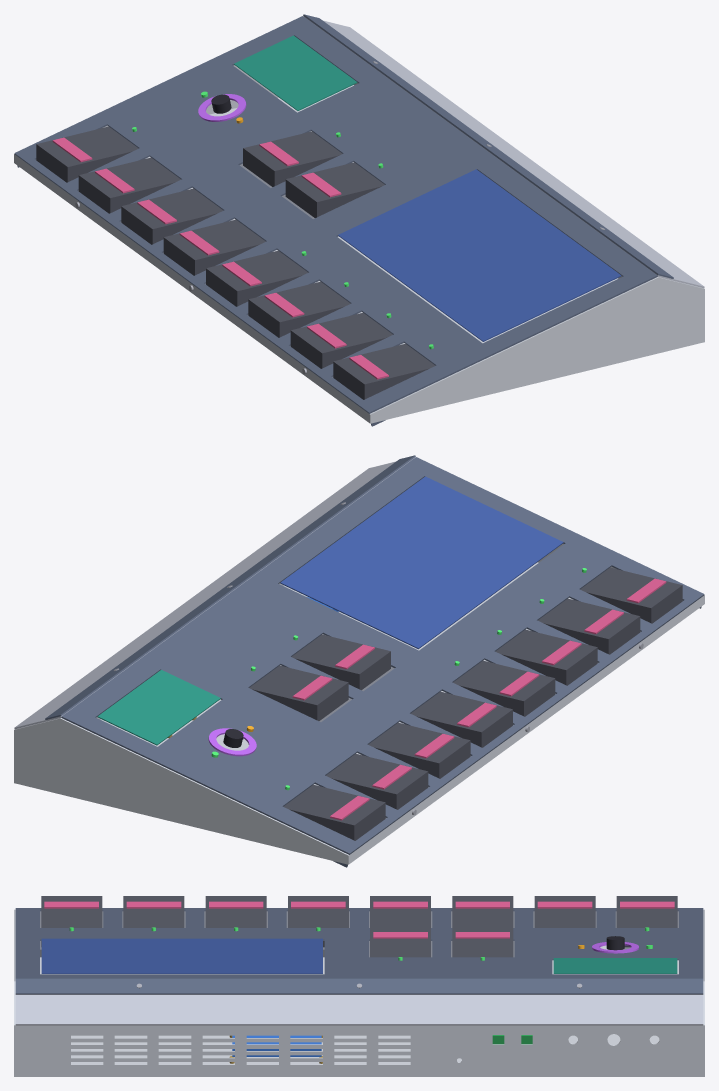
The model's file is segno.glb.
3 renders of one model, top to bottom at view 1: azimuth 30°, elevation 25°; view 2: azimuth 150°, elevation 25°; view 3: azimuth 270°, elevation 25°, orthographic. The views are drawn at different scales.
Visible parts, largest first — view 1: p6, p49, p4, p5, p48, p10, p1, p15, p30, p21, p33, p12 (+6 smaller); view 2: p6, p49, p3, p5, p48, p10, p1, p30, p15, p12, p24, p18 (+6 smaller); view 3: p2, p6, p5, p10, p49, p0, p48, p12, p33, p15, p27, p30 (+19 smaller).
Boxes of the visible parts, bbox=[...] form: p6: bbox=[14, 16, 657, 413]; p49: bbox=[338, 169, 621, 341]; p4: bbox=[369, 277, 704, 423]; p5: bbox=[304, 16, 704, 288]; p48: bbox=[234, 35, 357, 110]; p10: bbox=[303, 14, 673, 278]; p1: bbox=[15, 155, 369, 422]; p15: bbox=[78, 157, 180, 213]; p30: bbox=[290, 313, 392, 368]; p21: bbox=[163, 219, 265, 275]; p33: bbox=[333, 344, 435, 399]; p12: bbox=[36, 126, 138, 182]; p6: bbox=[61, 457, 704, 854]; p49: bbox=[280, 476, 563, 649]; p3: bbox=[14, 718, 349, 864]; p5: bbox=[14, 457, 414, 729]; p48: bbox=[97, 670, 220, 745]; p10: bbox=[45, 455, 415, 719]; p1: bbox=[349, 596, 703, 863]; p30: bbox=[538, 598, 640, 654]; p15: bbox=[326, 754, 428, 809]; p12: bbox=[283, 785, 385, 840]; p24: bbox=[453, 660, 555, 716]; p18: bbox=[368, 722, 470, 778]; p2: bbox=[15, 1025, 703, 1076]; p6: bbox=[15, 908, 703, 978]; p5: bbox=[15, 994, 703, 1025]; p10: bbox=[15, 978, 703, 994]; p49: bbox=[41, 938, 322, 973]; p0: bbox=[40, 945, 678, 1064]; p48: bbox=[553, 958, 677, 973]; p12: bbox=[616, 896, 677, 947]; p33: bbox=[41, 896, 102, 946]; p15: bbox=[534, 896, 595, 927]; p27: bbox=[205, 896, 266, 927]; p30: bbox=[123, 896, 184, 927].
Size of the model in its own units: 464 by 111 by 850.
